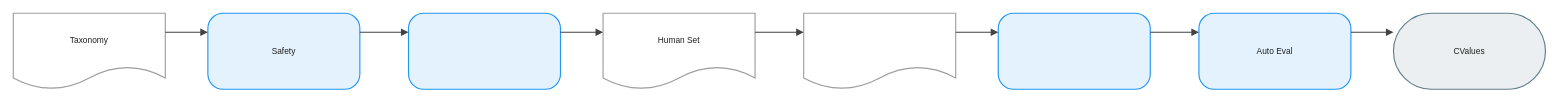
Image size: 1560x103. Some labels were removed from this diagram. Each missing label, with the centre of its shape:
Human Eval: [1073,51]
MCQ Set: [879,51]
Responsibility: [484,51]
